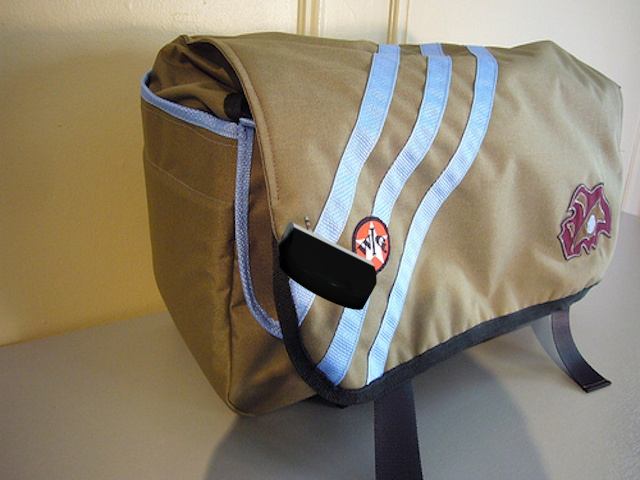mouse: (273, 216, 384, 312)
